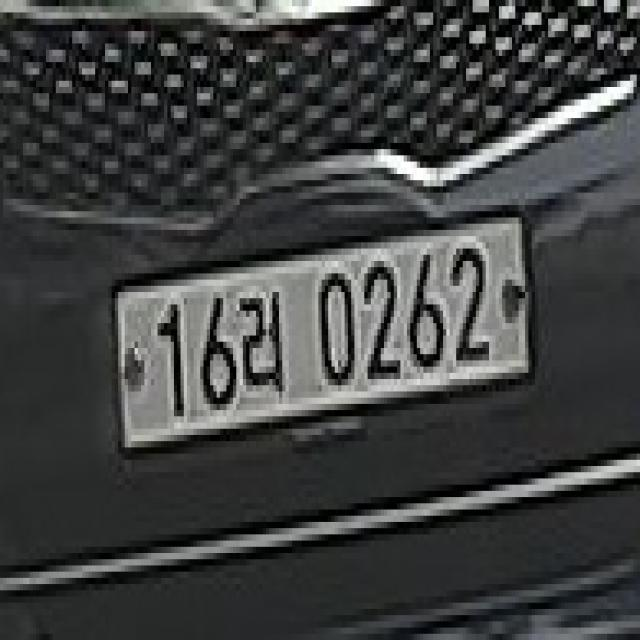0: (309, 261, 361, 404)
1: (151, 286, 194, 441)
2: (446, 230, 499, 373), (358, 248, 403, 392)
6: (193, 286, 240, 435), (404, 242, 446, 386)
leo: (236, 280, 292, 416)
license_plate: (105, 192, 542, 484)
